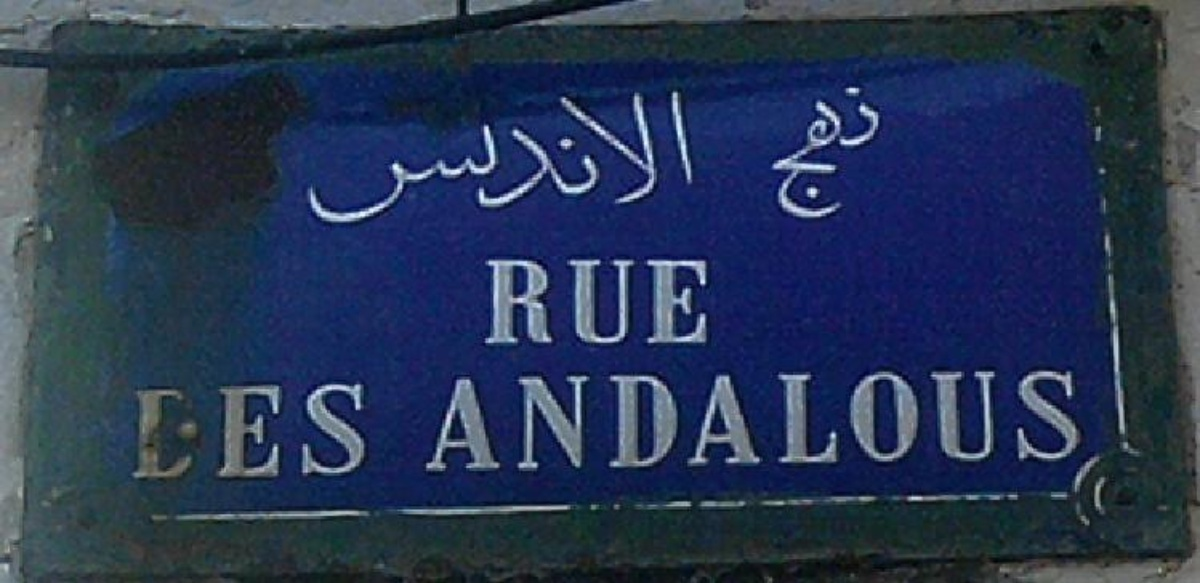text: (305, 89, 320, 231), (321, 89, 336, 231), (337, 89, 352, 231), (353, 89, 368, 231), (369, 89, 384, 231), (385, 89, 400, 231), (401, 89, 416, 231), (417, 89, 432, 231), (433, 89, 448, 231), (449, 89, 464, 231), (465, 89, 480, 231), (481, 89, 496, 231), (497, 89, 512, 231), (513, 89, 528, 231), (529, 89, 544, 231), (545, 89, 560, 231), (561, 89, 576, 231), (577, 89, 592, 231), (593, 89, 608, 231), (609, 89, 624, 231), (625, 89, 640, 231), (641, 89, 656, 231), (657, 89, 672, 231), (673, 89, 688, 231), (769, 84, 784, 222), (785, 84, 800, 222), (801, 84, 816, 222), (817, 84, 832, 222), (833, 84, 848, 222), (849, 84, 864, 222), (865, 84, 880, 222), (353, 382, 369, 483), (449, 369, 464, 471), (465, 369, 480, 471), (481, 369, 496, 471), (497, 369, 512, 471), (513, 369, 528, 471), (529, 369, 544, 471), (545, 369, 560, 471), (561, 369, 576, 471), (577, 369, 592, 471), (593, 369, 608, 471), (609, 369, 624, 471), (625, 369, 640, 471), (641, 369, 656, 471), (657, 369, 672, 471), (673, 369, 688, 471), (689, 369, 704, 471), (705, 369, 720, 471), (721, 369, 736, 471), (737, 369, 752, 471), (753, 369, 768, 471), (769, 369, 784, 471), (785, 369, 800, 471), (801, 369, 816, 471), (817, 369, 832, 471), (833, 369, 848, 471), (849, 369, 864, 471), (865, 369, 880, 471), (881, 369, 896, 471), (897, 369, 912, 471), (913, 369, 928, 471), (929, 369, 944, 471), (945, 369, 960, 471), (961, 369, 976, 471), (977, 369, 992, 471), (993, 369, 1008, 471), (1009, 369, 1024, 471), (1025, 369, 1040, 471), (1041, 369, 1056, 471), (1057, 369, 1072, 471), (145, 382, 160, 483), (161, 382, 176, 483), (177, 382, 192, 483), (193, 382, 208, 483), (209, 382, 224, 483), (225, 382, 240, 483), (241, 382, 256, 483), (257, 382, 272, 483), (273, 382, 288, 483), (289, 382, 304, 483), (305, 382, 320, 483), (321, 382, 336, 483), (337, 382, 352, 483), (689, 89, 699, 231), (130, 382, 144, 483), (497, 255, 512, 346), (513, 255, 528, 346), (529, 255, 544, 346), (545, 255, 560, 346), (561, 255, 576, 346), (577, 255, 592, 346), (593, 255, 608, 346), (609, 255, 624, 346), (625, 255, 640, 346), (641, 255, 656, 346), (657, 255, 672, 346), (673, 255, 688, 346), (689, 255, 704, 346), (1073, 369, 1084, 471), (486, 255, 496, 346), (705, 255, 713, 346), (300, 89, 304, 231), (766, 84, 768, 222), (881, 84, 883, 222), (446, 369, 448, 471)
